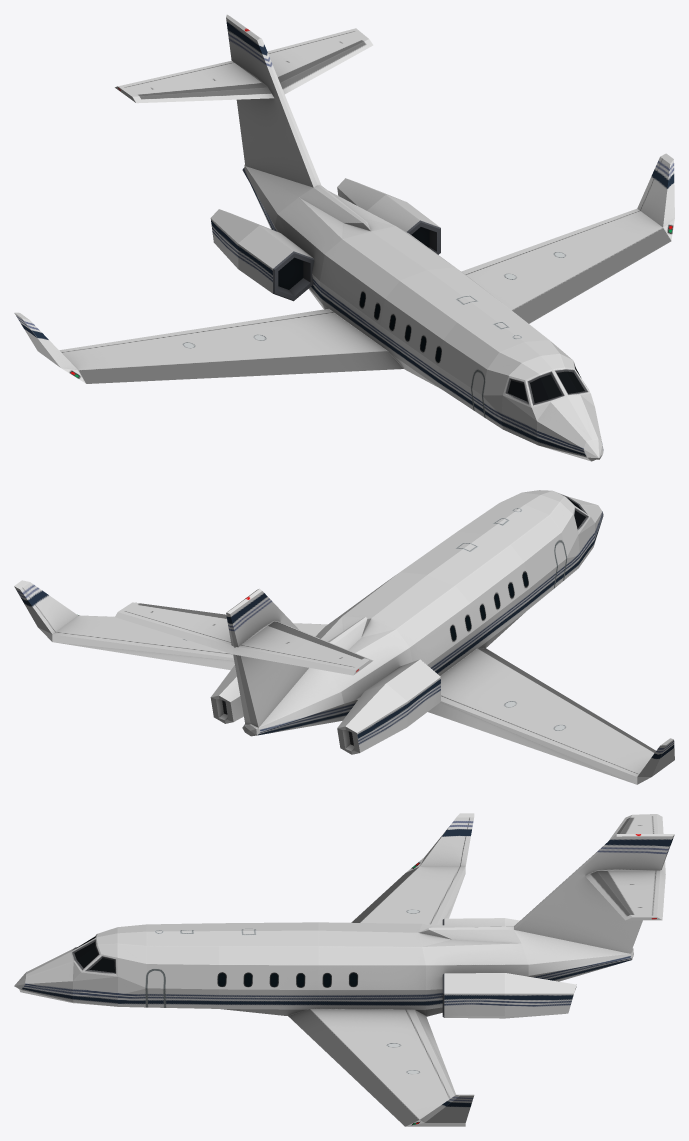
The model's file is Jet.obj.
The picture shows the model from 3 angles, top to bottom: view 1: azimuth 30°, elevation 25°; view 2: azimuth 150°, elevation 25°; view 3: azimuth 270°, elevation 25°; orthographic projection. The views are drawn at different scales.
Parts seen in each view (by area): view 1: Jet_mesh; view 2: Jet_mesh; view 3: Jet_mesh.
Part boxes in pixels (x1,y1,x2,y2): Jet_mesh: (14, 14, 674, 461); Jet_mesh: (14, 490, 674, 784); Jet_mesh: (14, 813, 674, 1126).
Bounding box in the file's own units: 8.68 × 2.47 × 8.58.
Materials: 1 (1 with a texture image).
